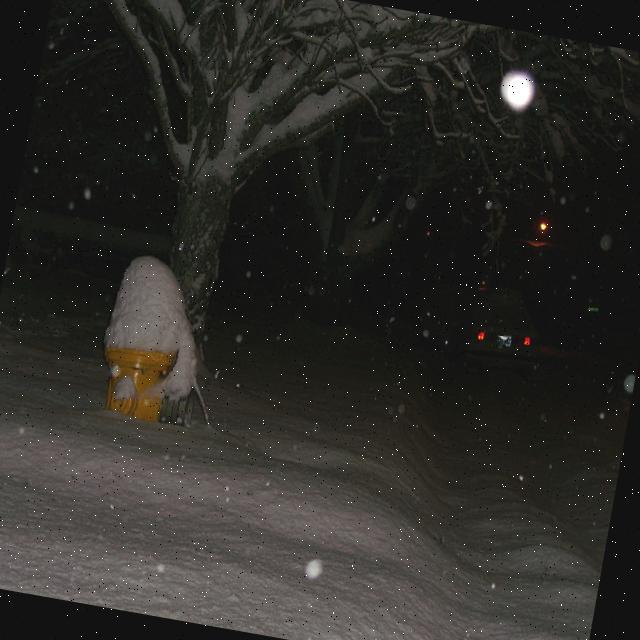fire_hydrant: (90, 336, 202, 430)
